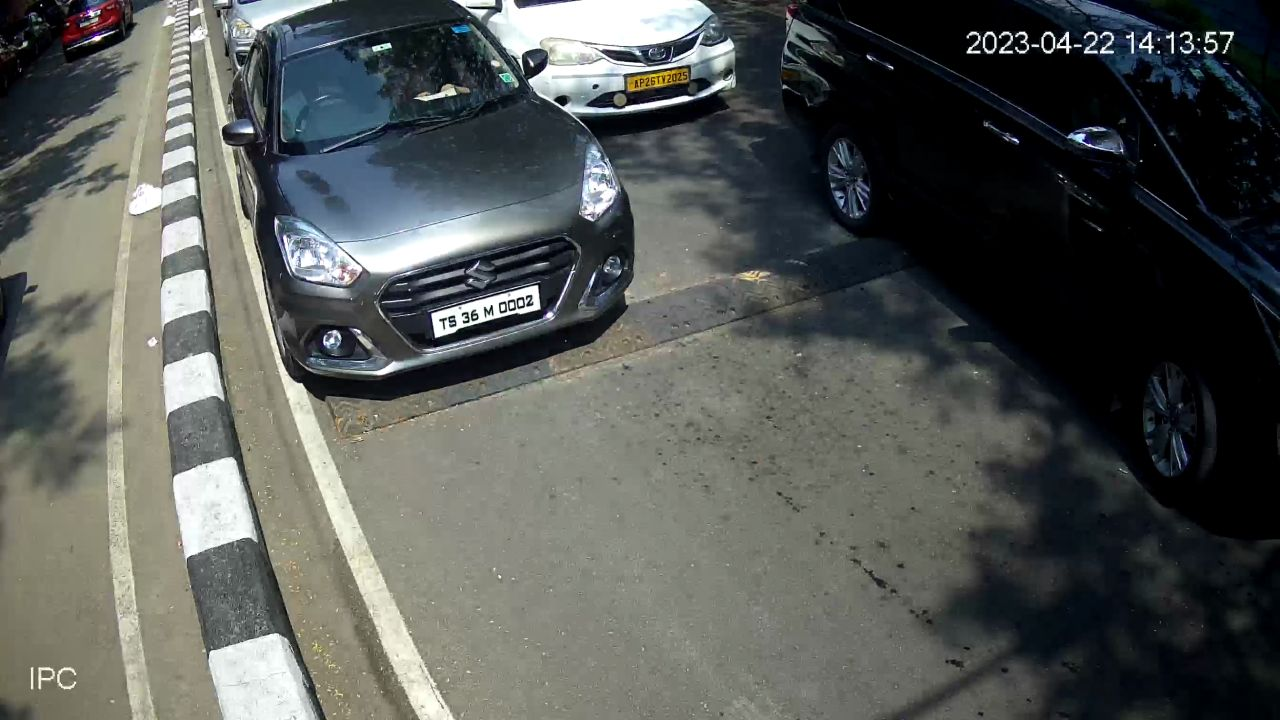license_plate: (427, 278, 549, 345), (621, 62, 694, 103)
